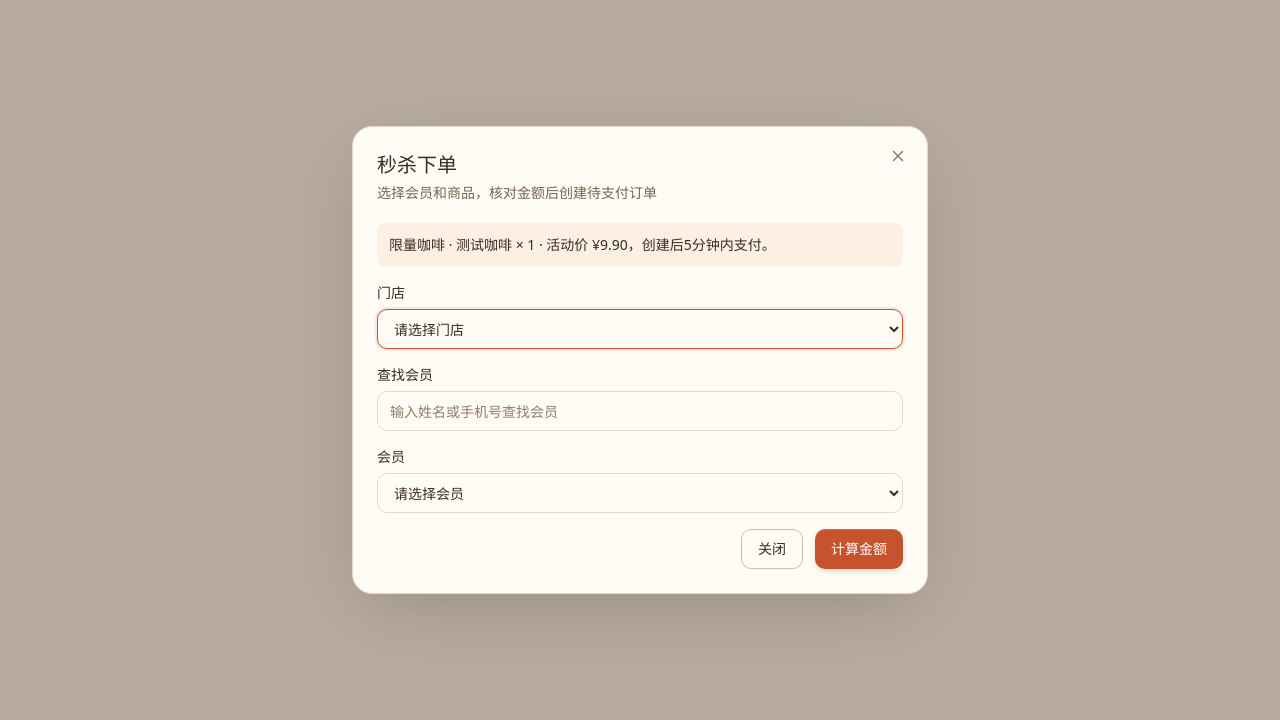
Test: 满减券用户操作 › 秒杀入口固定活动和一件商品，不显示其他优惠或数量修改入口
Select "测试门店" in the dropdown labelled "门店": [640, 329] box [377, 309, 903, 349]
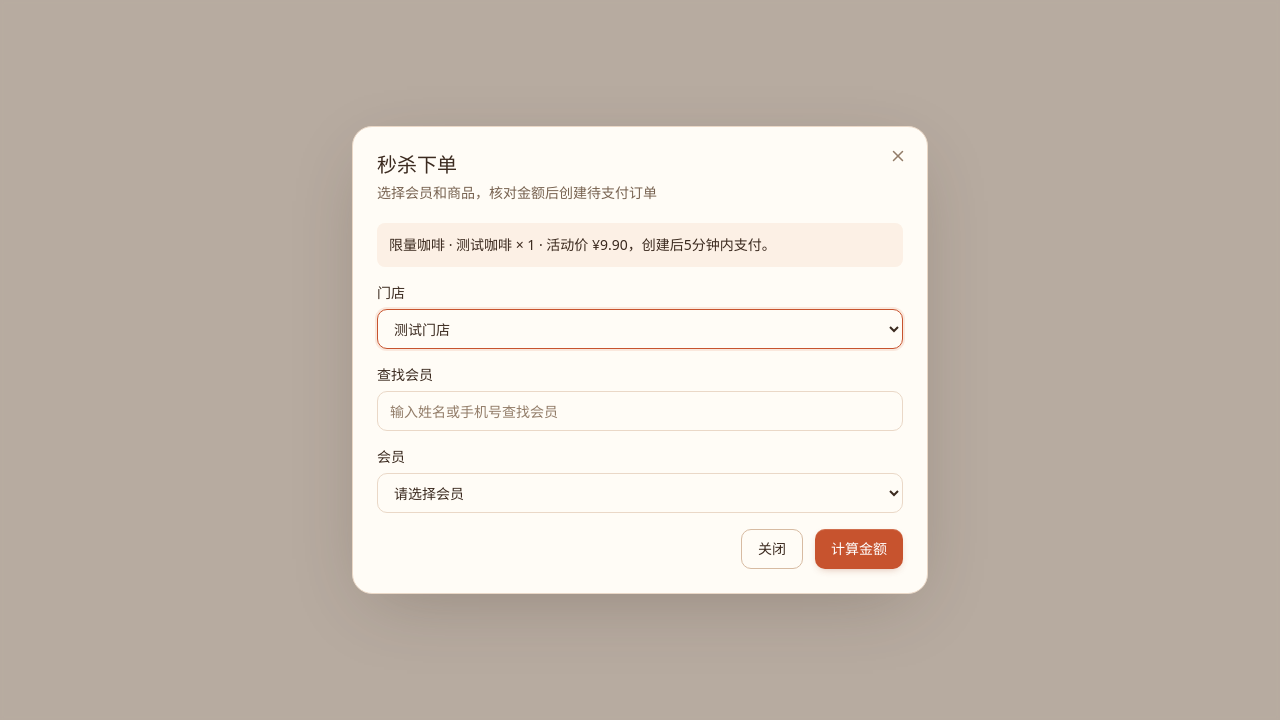
Select "甲会员 · 111" in the dropdown labelled "会员": [640, 493] box [377, 473, 903, 513]
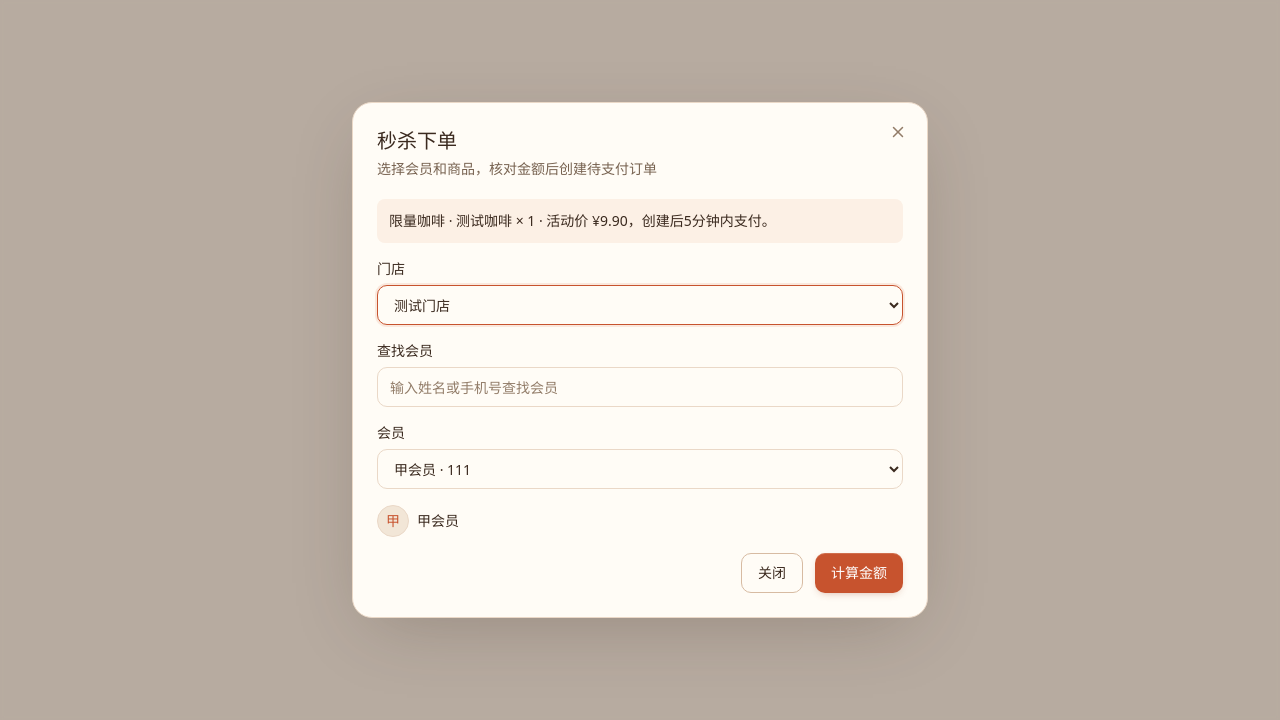
Click the button "计算金额": [859, 573] box [815, 553, 903, 593]
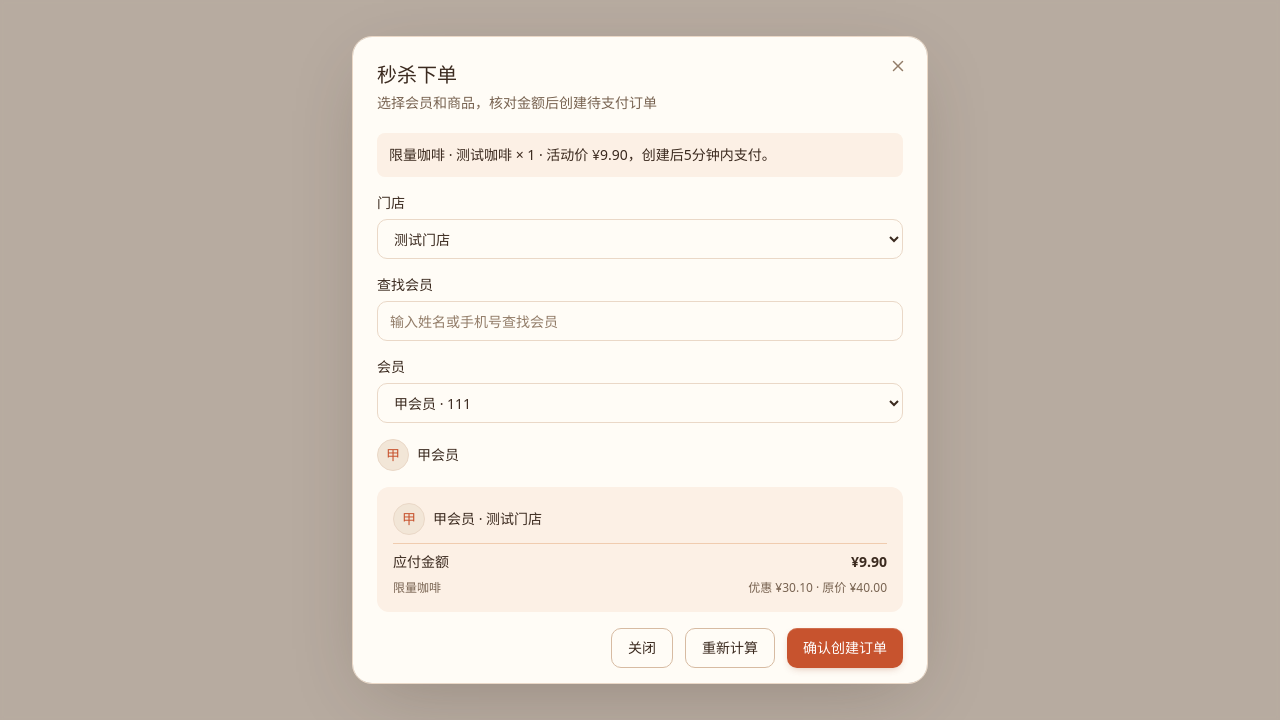
Now the button "确认创建订单" is shown, box [787, 628, 903, 668]
